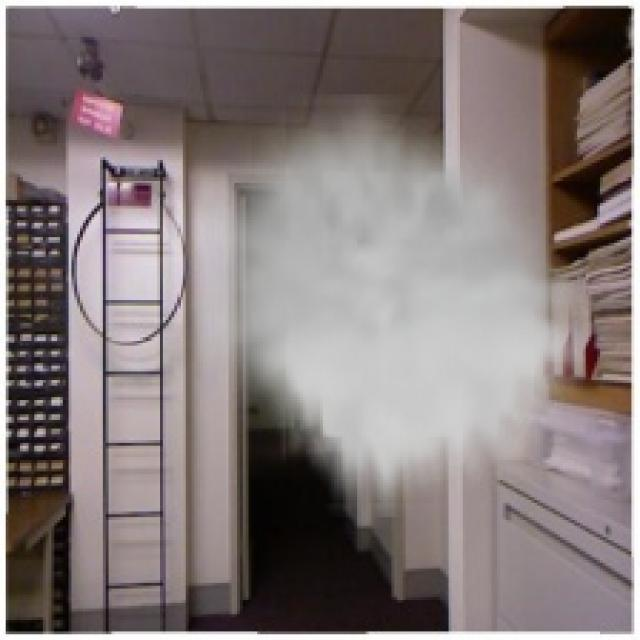Smoke: (197, 94, 586, 517)
